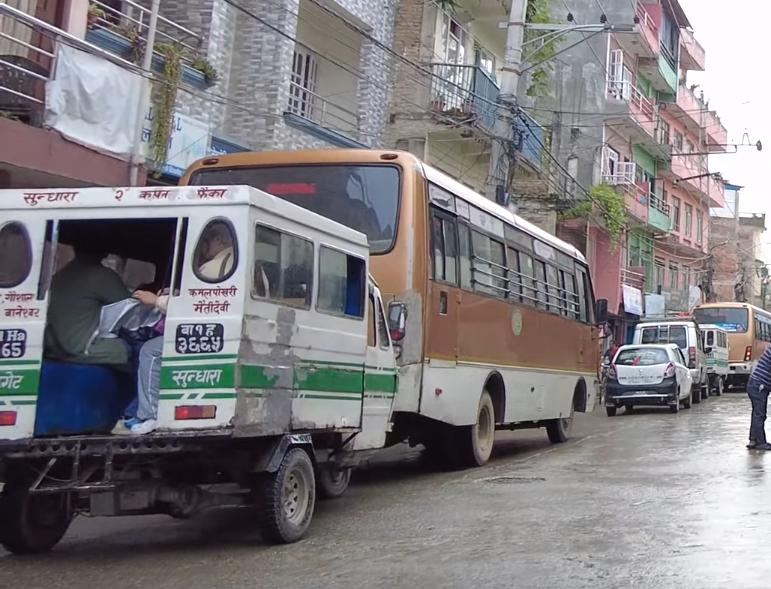bus: (183, 138, 606, 463), (692, 297, 771, 383)
taxi: (605, 341, 698, 417)
tempo: (0, 186, 410, 551), (700, 322, 732, 399)
